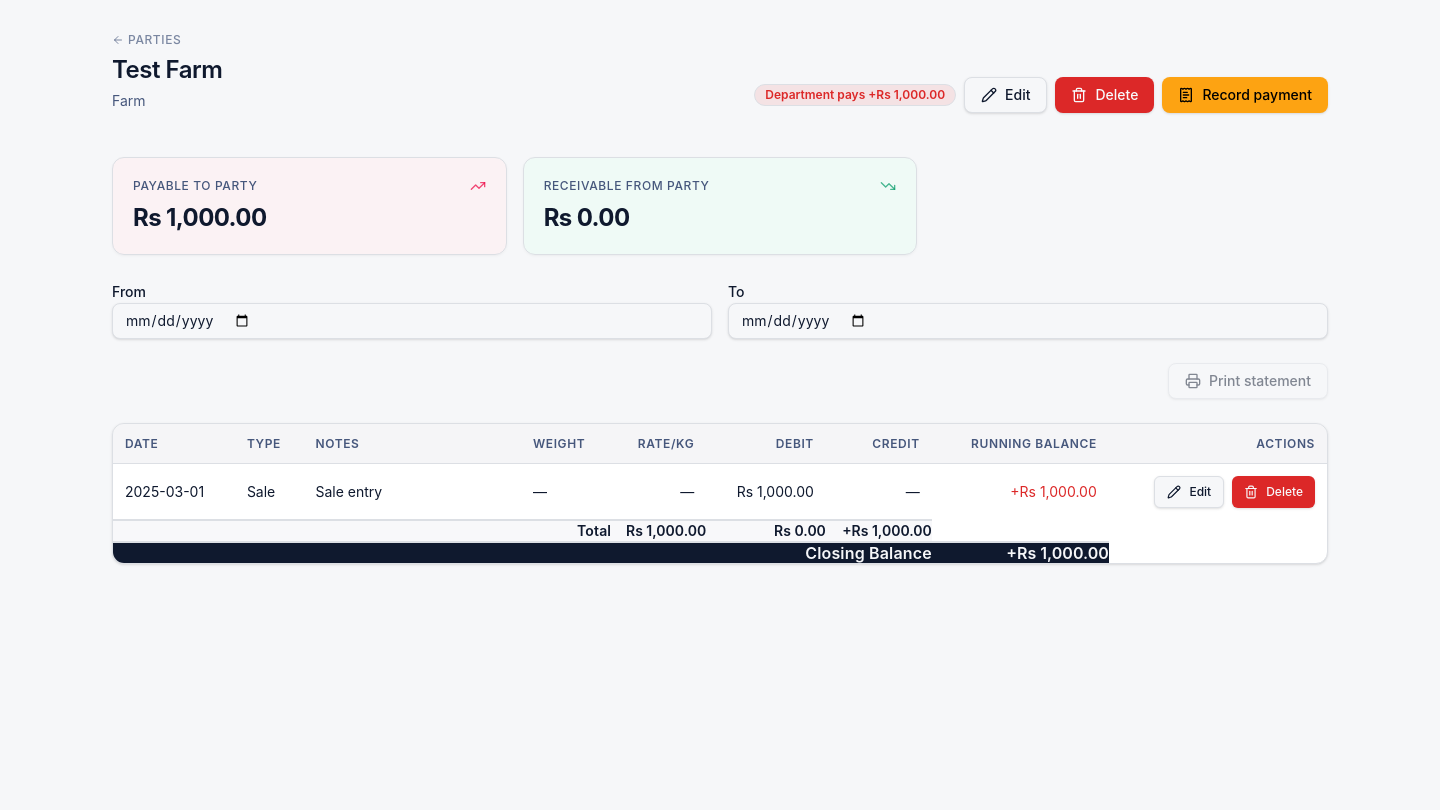
PartyStatementPage › opens the payment dialog when Record payment is clicked
Click the button "Record payment".
click(1245, 95)  # box [1162,77,1328,113]
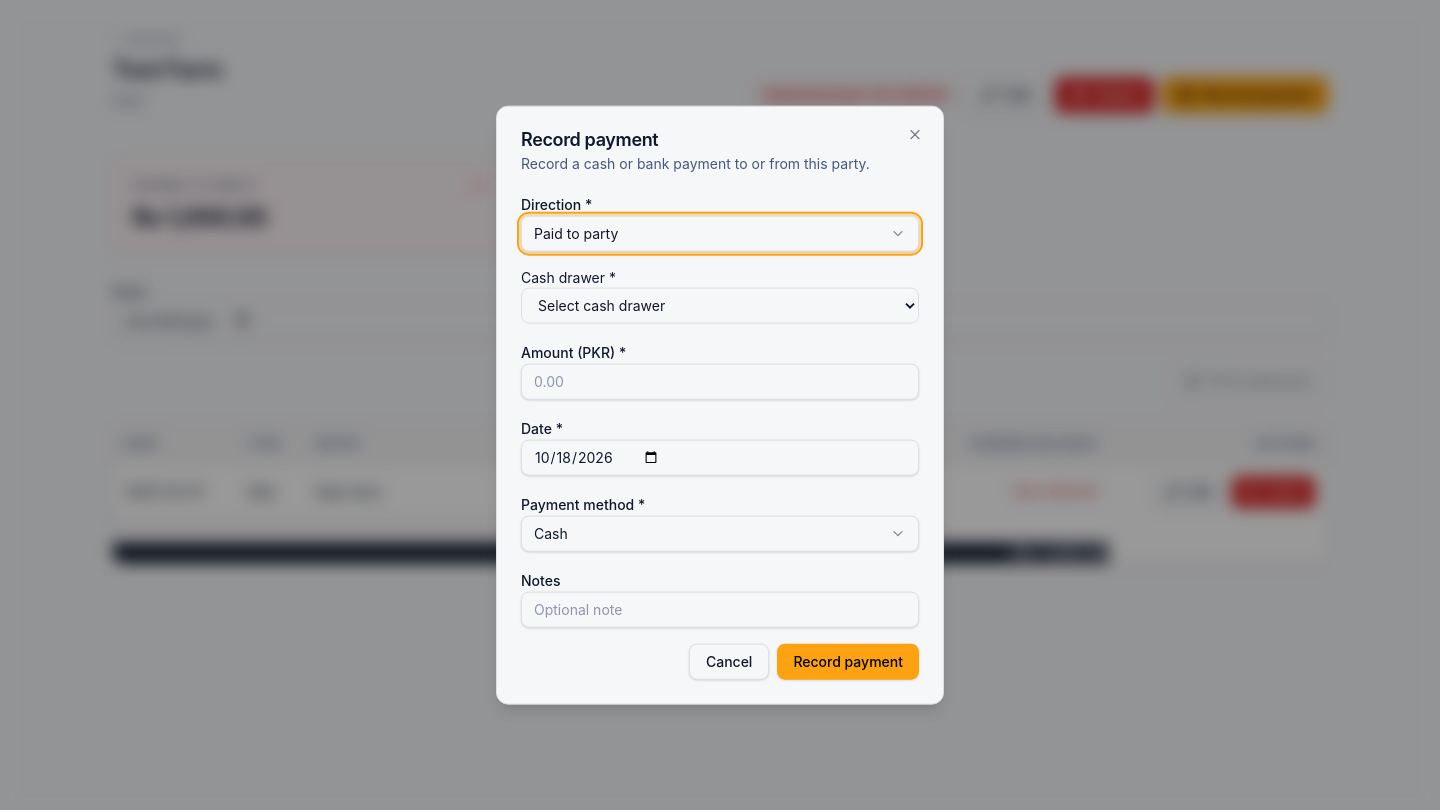
Expected: the heading "Record payment" is shown, [521,129,658,150]
